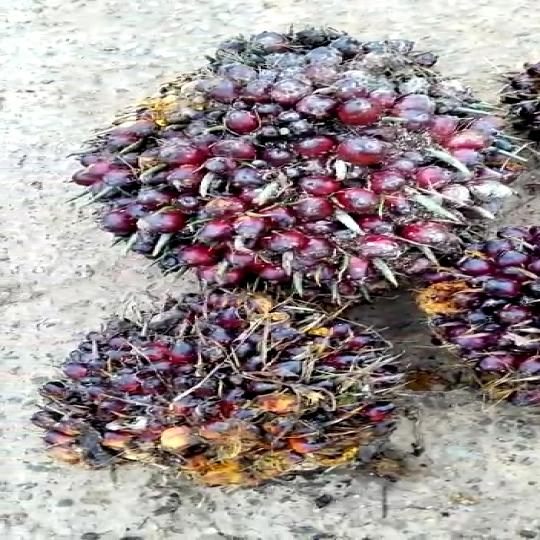kurang masak: (74, 10, 496, 301), (10, 292, 434, 504)
